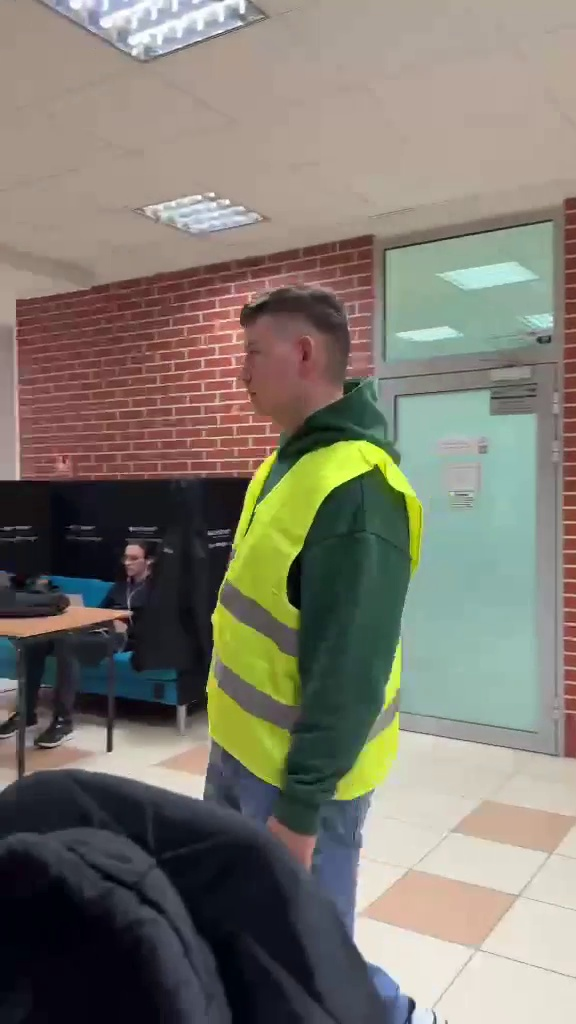no vest: (10, 536, 146, 734)
vest: (213, 274, 439, 1014)
